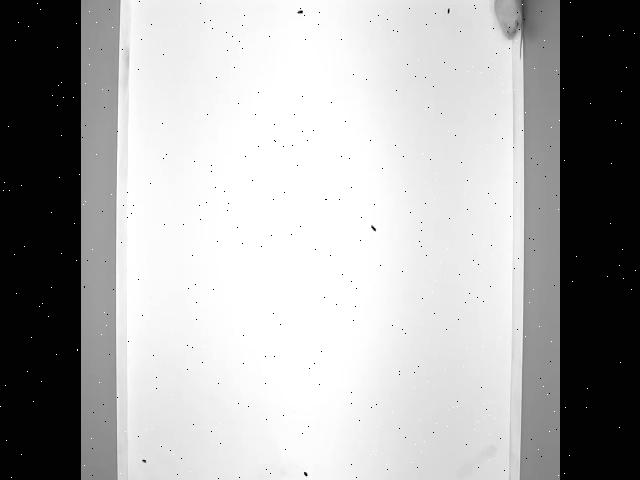Tikus: (490, 0, 524, 69)
